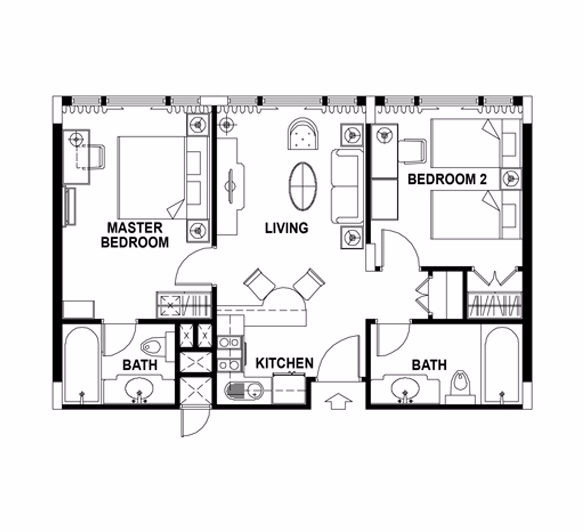door: (317, 329, 362, 372), (171, 251, 210, 288), (169, 249, 208, 286), (373, 327, 412, 364), (176, 411, 215, 448), (379, 225, 418, 262), (100, 326, 137, 358)
